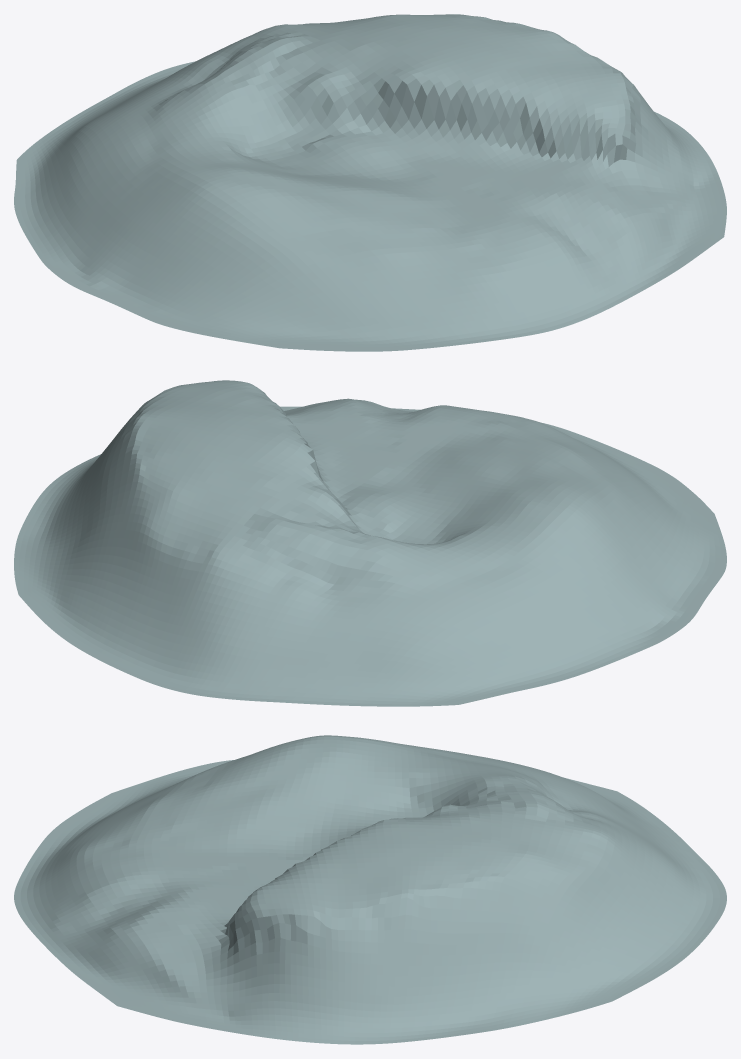
Rendered from Island01 1.fbx.
3 renders of one model, top to bottom at view 1: azimuth 30°, elevation 25°; view 2: azimuth 150°, elevation 25°; view 3: azimuth 270°, elevation 25°, orthographic. The views are drawn at different scales.
Parts seen in each view (by area): view 1: Plane; view 2: Plane; view 3: Plane.
Part boxes in pixels (<box>): Plane: <box>14,14,726,351</box>; Plane: <box>14,380,726,706</box>; Plane: <box>14,735,726,1044</box>.
Size of the model in its own units: 10566 by 1783 by 10771.
